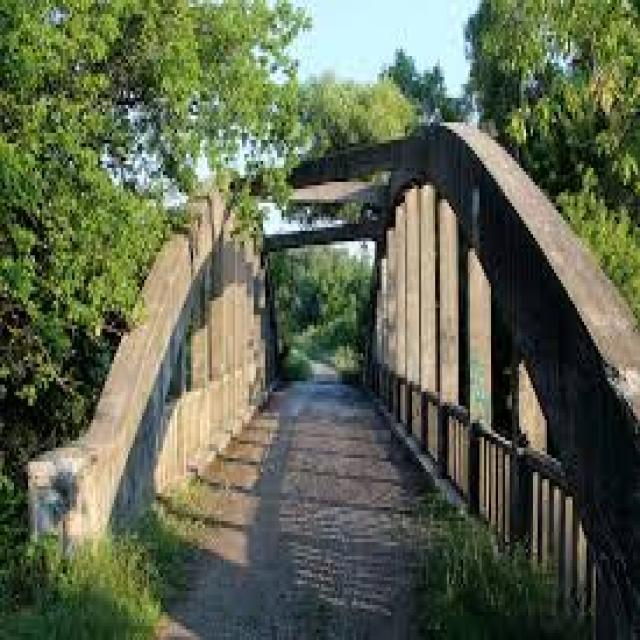Bridges: (55, 71, 640, 614)
